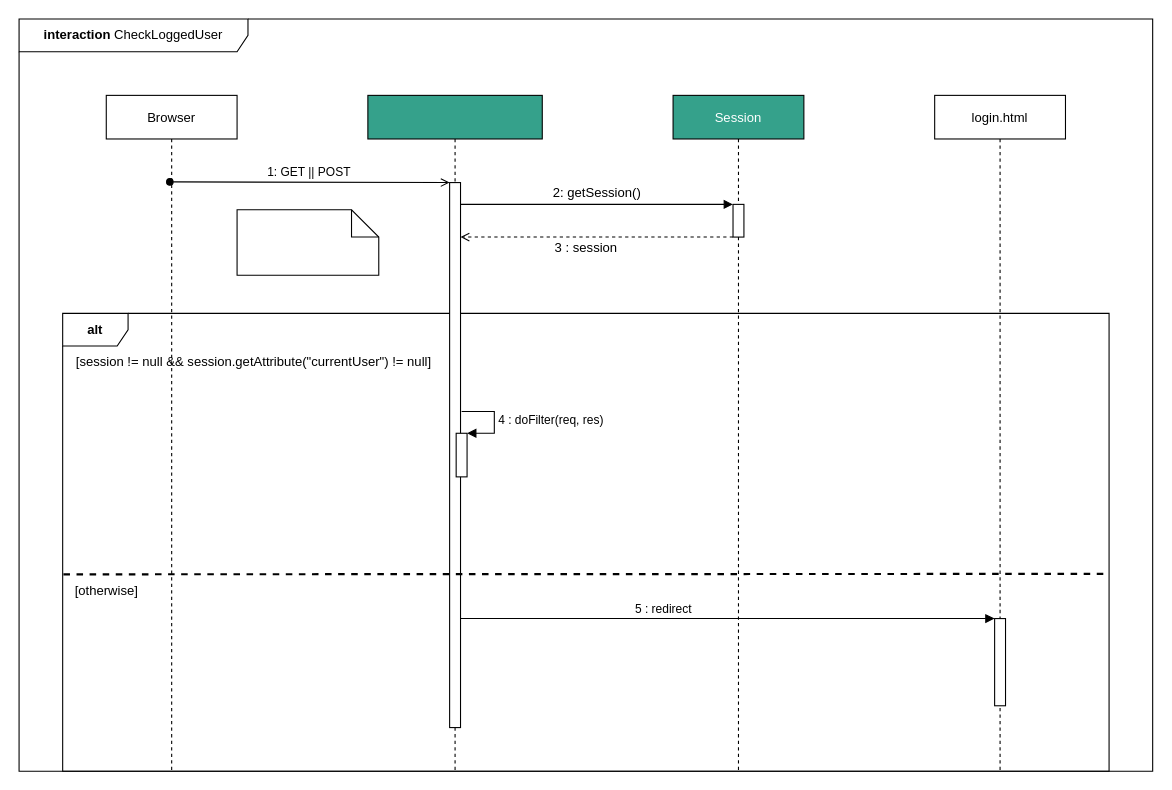
Some shapes in this 1172 by 790 pixel diagram are drawn without their labels. The centre of each missing label's shape, as x and y in pixels:
CheckLoggedUser: the point at 454,432
to protected urls: the point at 307,242
